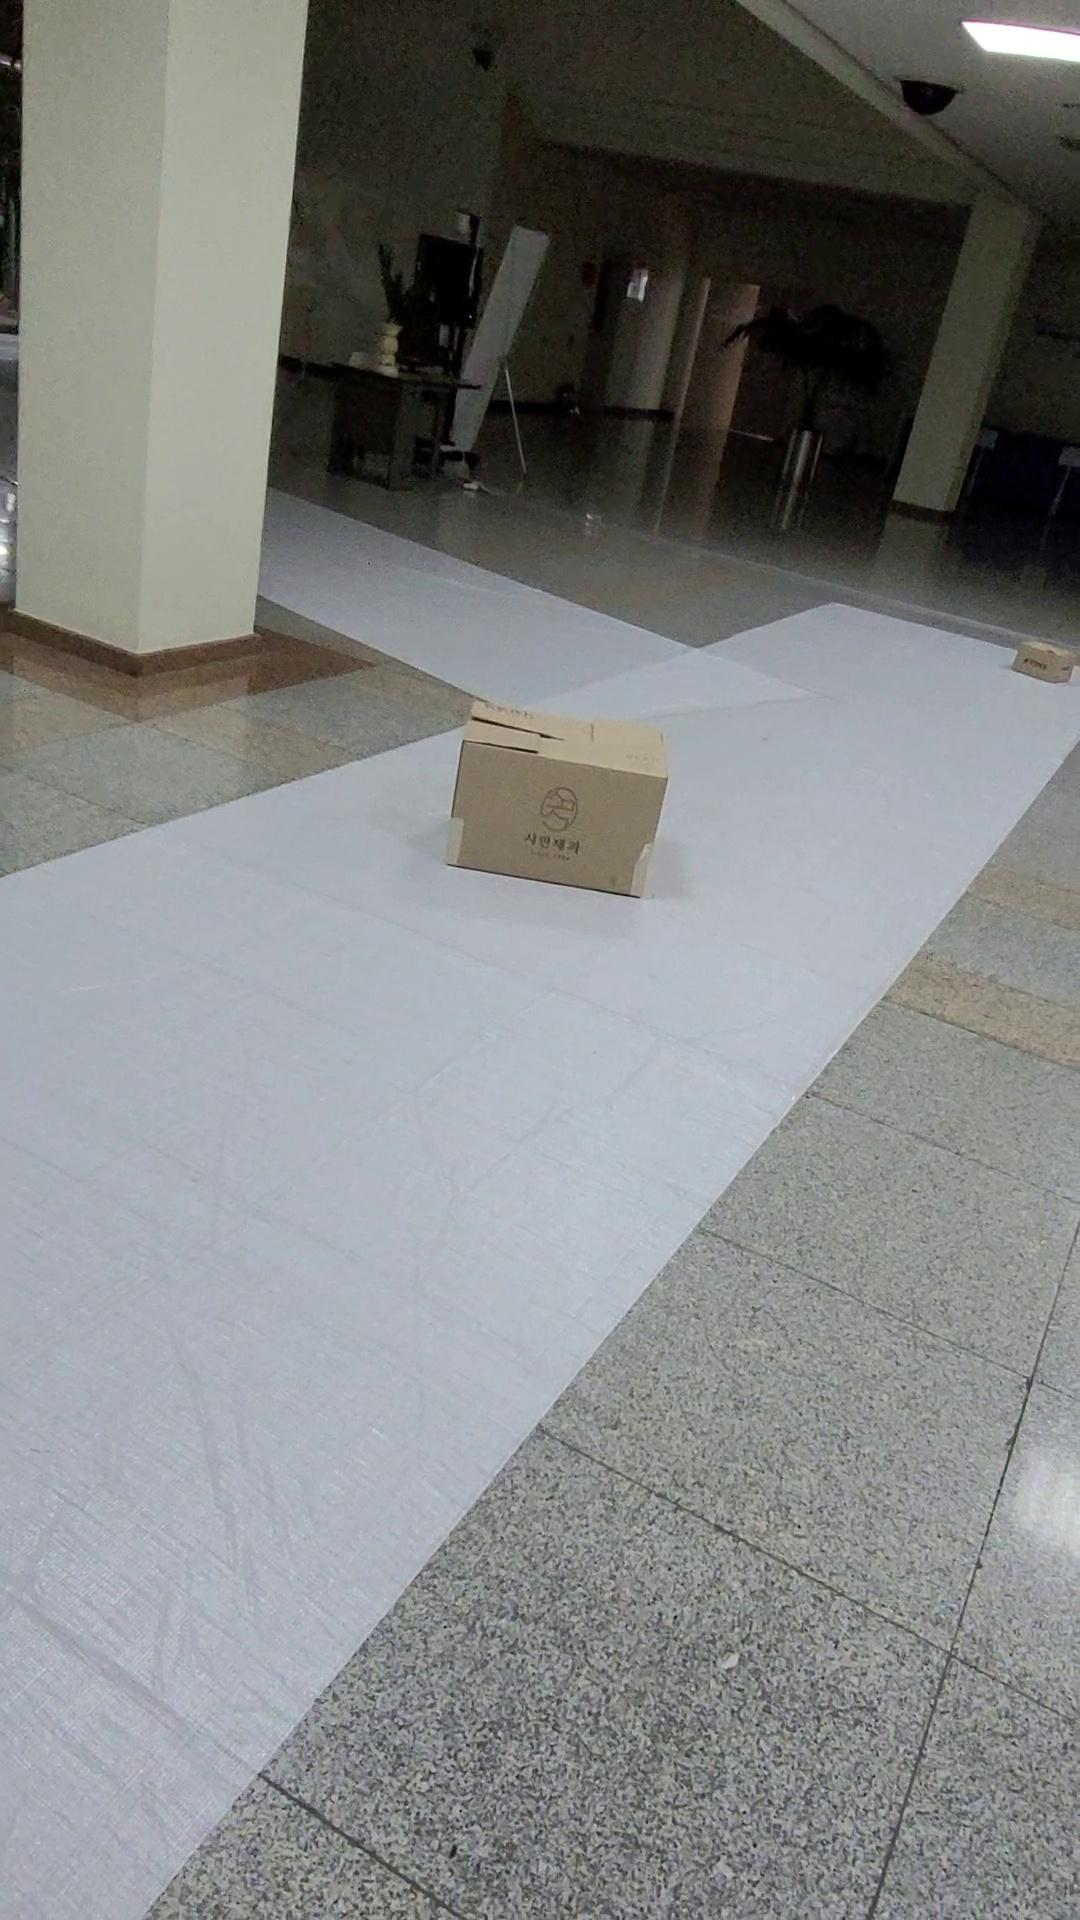Box: (421, 680, 687, 930), (1001, 622, 1080, 717)
